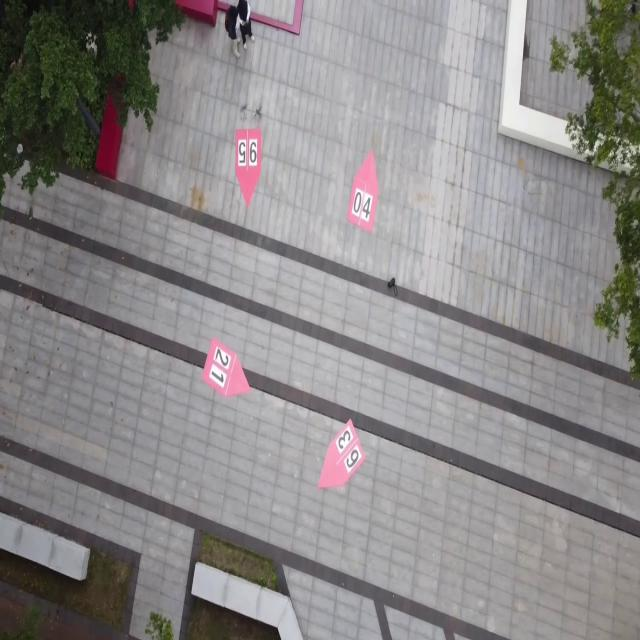-sign-: (318, 419, 368, 489), (201, 335, 250, 399), (346, 147, 378, 233), (235, 124, 262, 210)
